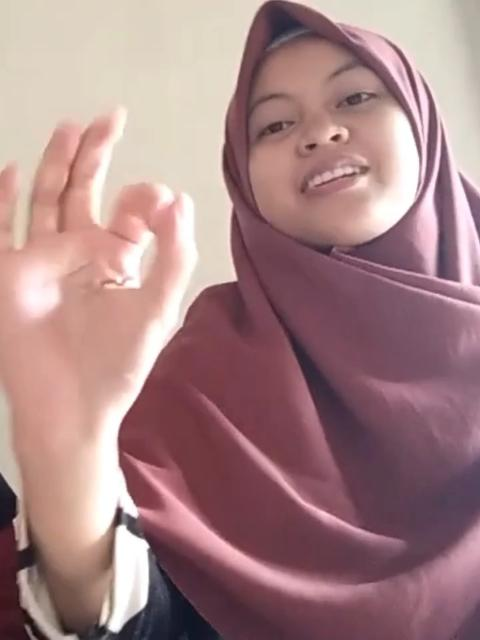F: (0, 103, 202, 423)
